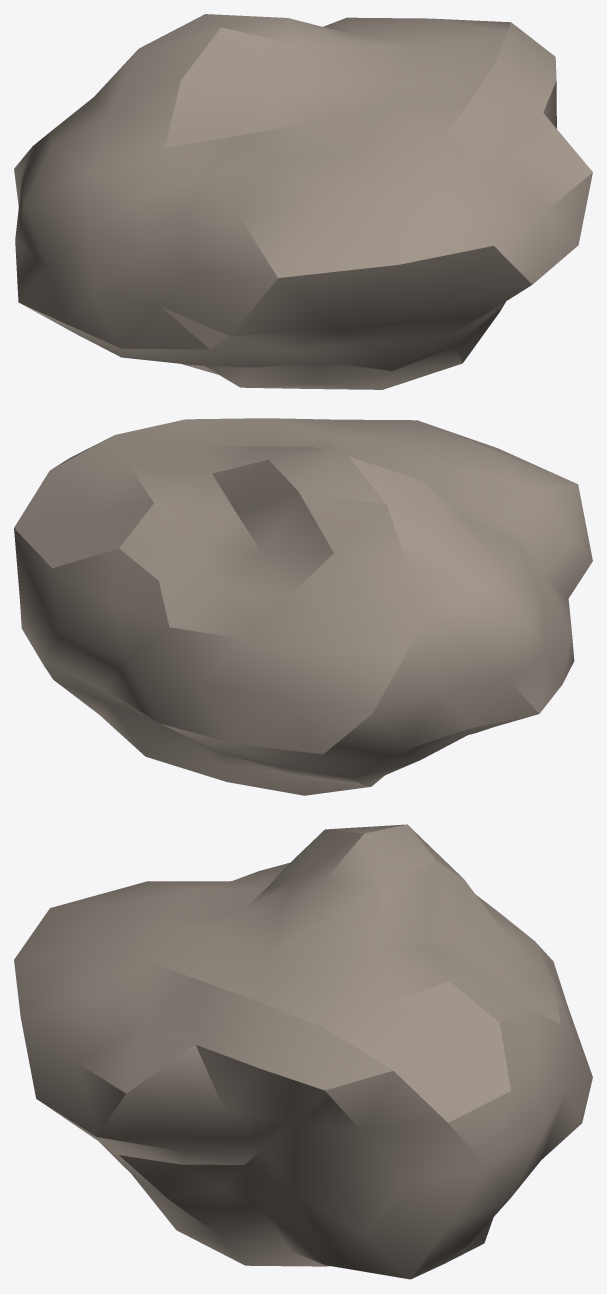
Rendered from rock2.glb.
The picture shows the model from 3 angles, top to bottom: view 1: azimuth 30°, elevation 25°; view 2: azimuth 150°, elevation 25°; view 3: azimuth 270°, elevation 25°; orthographic projection. The views are drawn at different scales.
Parts seen in each view (by area): view 1: Rock; view 2: Rock; view 3: Rock.
Boxes of the visible parts, x1,y1,x2,y2 form: Rock: (14,14,592,389); Rock: (14,418,592,795); Rock: (14,824,592,1279).
Size of the model in its own units: 2.56 by 1.69 by 2.36.
